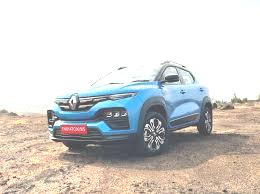Renault: (68, 92, 81, 111)
